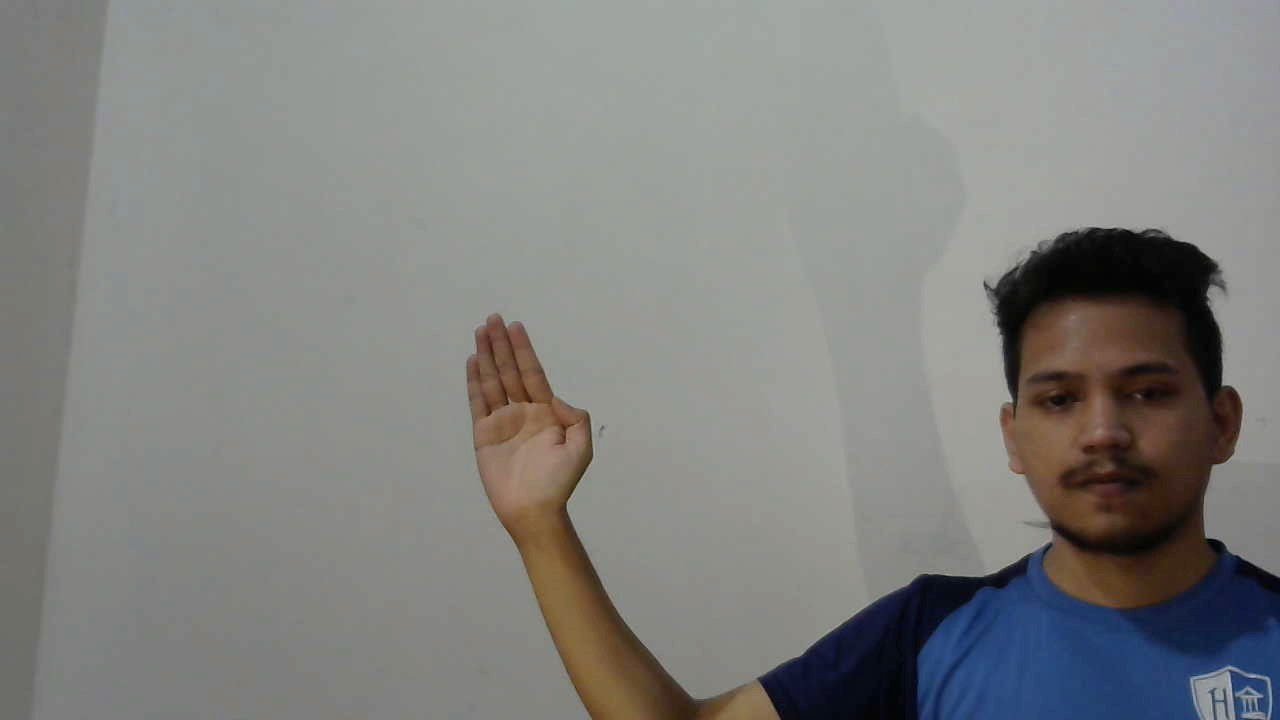hello: (440, 290, 609, 545)
